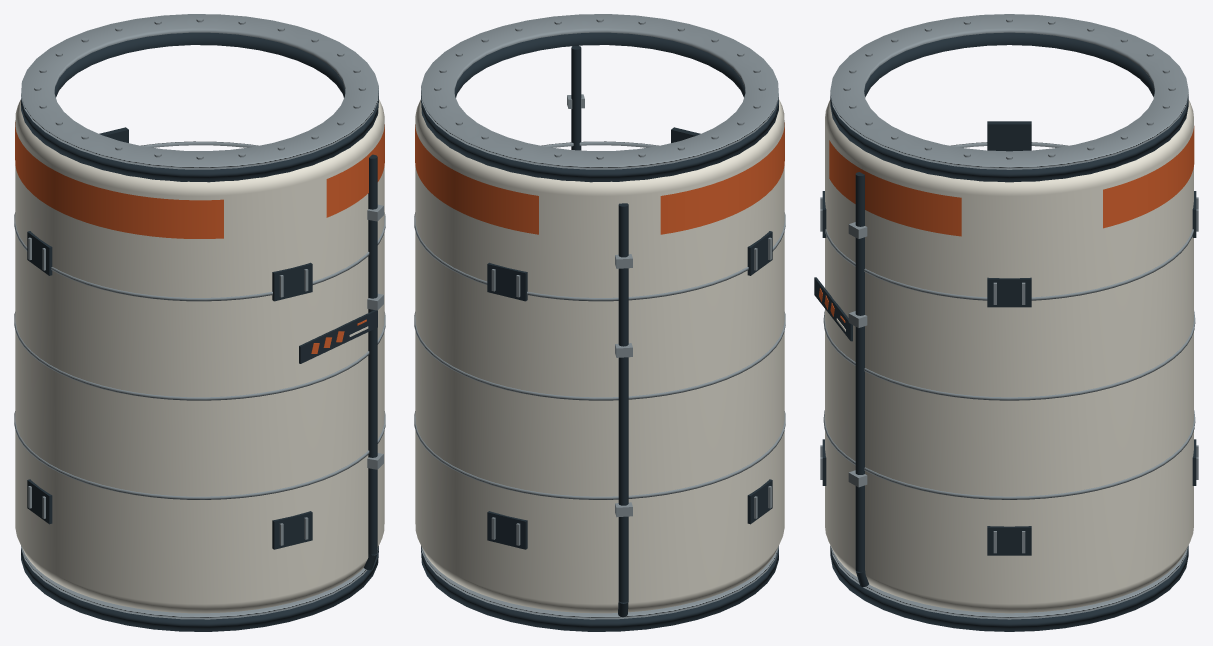
The model's file is b_140_bochka.glb.
3 renders of one model, left to right at view 1: azimuth 30°, elevation 25°; view 2: azimuth 150°, elevation 25°; view 3: azimuth 270°, elevation 25°, orthographic.
Parts seen in each view (by area): view 1: b_140_bochka.pressure_shell.mesh_JUGRE_·_bone_ceramic, b_140_bochka.mesh_JUGRE_·_bead-blasted_titanium, b_140_bochka.mesh_JUGRE_·_graphite_composite, b_140_bochka.pressure_shell.mesh_JUGRE_·_oxide_orange, b_140_bochka.pressure_shell.mesh_JUGRE_·_bead-blasted_titani, b_140_bochka.feedline_a.mesh_JUGRE_·_graphite_composite, b_140_bochka.mark_0_32.mesh_JUGRE_·_graphite_composite, b_140_bochka.rail_1_01.mesh_JUGRE_·_graphite_composite, b_140_bochka.rail_2_01.mesh_JUGRE_·_graphite_composite, b_140_bochka.feedline_a.mesh_JUGRE_·_bead-blasted_titanium, b_140_bochka.rail_1_04.mesh_JUGRE_·_graphite_composite, b_140_bochka.rail_2_04.mesh_JUGRE_·_graphite_composite; view 2: b_140_bochka.pressure_shell.mesh_JUGRE_·_bone_ceramic, b_140_bochka.mesh_JUGRE_·_bead-blasted_titanium, b_140_bochka.mesh_JUGRE_·_graphite_composite, b_140_bochka.pressure_shell.mesh_JUGRE_·_oxide_orange, b_140_bochka.pressure_shell.mesh_JUGRE_·_bead-blasted_titani, b_140_bochka.feedline_b.mesh_JUGRE_·_graphite_composite, b_140_bochka.feedline_a.mesh_JUGRE_·_graphite_composite, b_140_bochka.rail_1_03.mesh_JUGRE_·_graphite_composite, b_140_bochka.rail_2_03.mesh_JUGRE_·_graphite_composite, b_140_bochka.feedline_b.mesh_JUGRE_·_bead-blasted_titanium, b_140_bochka.rail_1_04.mesh_JUGRE_·_graphite_composite, b_140_bochka.rail_2_04.mesh_JUGRE_·_graphite_composite; view 3: b_140_bochka.pressure_shell.mesh_JUGRE_·_bone_ceramic, b_140_bochka.mesh_JUGRE_·_bead-blasted_titanium, b_140_bochka.mesh_JUGRE_·_graphite_composite, b_140_bochka.pressure_shell.mesh_JUGRE_·_oxide_orange, b_140_bochka.pressure_shell.mesh_JUGRE_·_bead-blasted_titani, b_140_bochka.feedline_a.mesh_JUGRE_·_graphite_composite, b_140_bochka.rail_2_04.mesh_JUGRE_·_graphite_composite, b_140_bochka.rail_2_02.mesh_JUGRE_·_graphite_composite, b_140_bochka.rail_1_02.mesh_JUGRE_·_graphite_composite, b_140_bochka.feedline_a.mesh_JUGRE_·_bead-blasted_titanium, b_140_bochka.mark_0_32.mesh_JUGRE_·_graphite_composite.
Boxes of the visible parts, x1,y1,x2,y2 form: b_140_bochka.pressure_shell.mesh_JUGRE_·_bone_ceramic: [15, 99, 384, 613]; b_140_bochka.mesh_JUGRE_·_bead-blasted_titanium: [21, 14, 378, 619]; b_140_bochka.mesh_JUGRE_·_graphite_composite: [21, 32, 378, 631]; b_140_bochka.pressure_shell.mesh_JUGRE_·_oxide_orange: [15, 122, 384, 238]; b_140_bochka.pressure_shell.mesh_JUGRE_·_bead-blasted_titani: [14, 141, 385, 499]; b_140_bochka.feedline_a.mesh_JUGRE_·_graphite_composite: [363, 154, 377, 570]; b_140_bochka.mark_0_32.mesh_JUGRE_·_graphite_composite: [299, 310, 377, 363]; b_140_bochka.rail_1_01.mesh_JUGRE_·_graphite_composite: [272, 511, 312, 549]; b_140_bochka.rail_2_01.mesh_JUGRE_·_graphite_composite: [272, 262, 312, 301]; b_140_bochka.feedline_a.mesh_JUGRE_·_bead-blasted_titanium: [367, 204, 383, 469]; b_140_bochka.rail_1_04.mesh_JUGRE_·_graphite_composite: [27, 479, 52, 524]; b_140_bochka.rail_2_04.mesh_JUGRE_·_graphite_composite: [27, 231, 52, 275]; b_140_bochka.pressure_shell.mesh_JUGRE_·_bone_ceramic: [415, 99, 784, 613]; b_140_bochka.mesh_JUGRE_·_bead-blasted_titanium: [421, 14, 778, 619]; b_140_bochka.mesh_JUGRE_·_graphite_composite: [421, 32, 778, 631]; b_140_bochka.pressure_shell.mesh_JUGRE_·_oxide_orange: [415, 122, 784, 234]; b_140_bochka.pressure_shell.mesh_JUGRE_·_bead-blasted_titani: [414, 141, 785, 499]; b_140_bochka.feedline_b.mesh_JUGRE_·_graphite_composite: [618, 203, 628, 617]; b_140_bochka.feedline_a.mesh_JUGRE_·_graphite_composite: [571, 45, 581, 150]; b_140_bochka.rail_1_03.mesh_JUGRE_·_graphite_composite: [487, 511, 527, 549]; b_140_bochka.rail_2_03.mesh_JUGRE_·_graphite_composite: [487, 262, 527, 301]; b_140_bochka.feedline_b.mesh_JUGRE_·_bead-blasted_titanium: [615, 254, 632, 517]; b_140_bochka.rail_1_04.mesh_JUGRE_·_graphite_composite: [747, 479, 772, 524]; b_140_bochka.rail_2_04.mesh_JUGRE_·_graphite_composite: [747, 231, 772, 275]; b_140_bochka.pressure_shell.mesh_JUGRE_·_bone_ceramic: [825, 100, 1193, 613]; b_140_bochka.mesh_JUGRE_·_bead-blasted_titanium: [830, 14, 1188, 619]; b_140_bochka.mesh_JUGRE_·_graphite_composite: [830, 32, 1188, 631]; b_140_bochka.pressure_shell.mesh_JUGRE_·_oxide_orange: [829, 126, 1194, 236]; b_140_bochka.pressure_shell.mesh_JUGRE_·_bead-blasted_titani: [823, 142, 1195, 499]; b_140_bochka.feedline_a.mesh_JUGRE_·_graphite_composite: [855, 172, 868, 586]; b_140_bochka.rail_2_04.mesh_JUGRE_·_graphite_composite: [987, 121, 1031, 151]; b_140_bochka.rail_2_02.mesh_JUGRE_·_graphite_composite: [987, 277, 1031, 307]; b_140_bochka.rail_1_02.mesh_JUGRE_·_graphite_composite: [987, 526, 1031, 555]; b_140_bochka.feedline_a.mesh_JUGRE_·_bead-blasted_titanium: [848, 222, 867, 487]; b_140_bochka.mark_0_32.mesh_JUGRE_·_graphite_composite: [814, 277, 852, 341].
Bounding box in the file's own units: 2.56 × 3.5 × 2.6.
